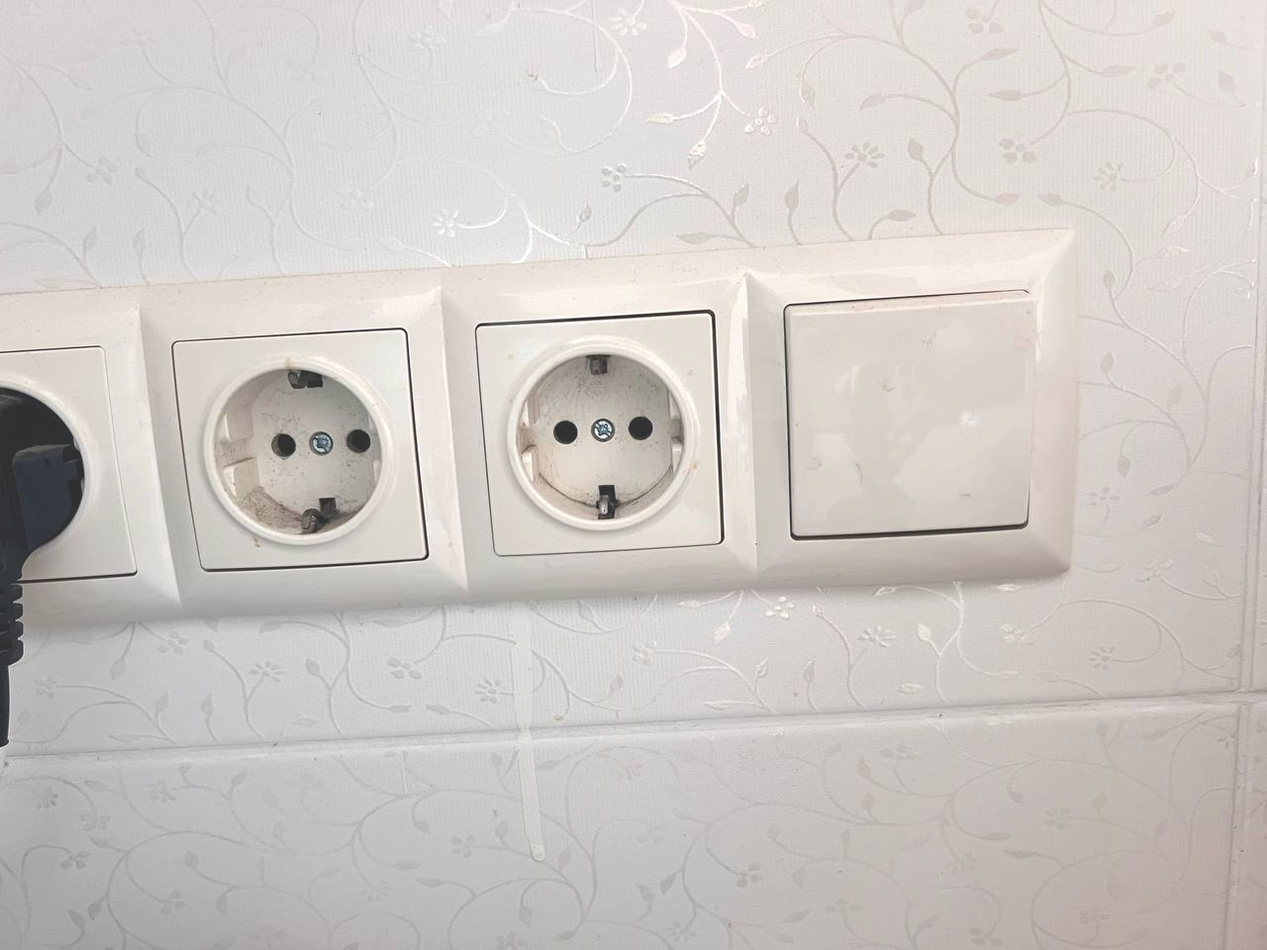Light Switcher: (771, 287, 1045, 543)
Power Outlet: (197, 352, 402, 556), (501, 335, 704, 535)
